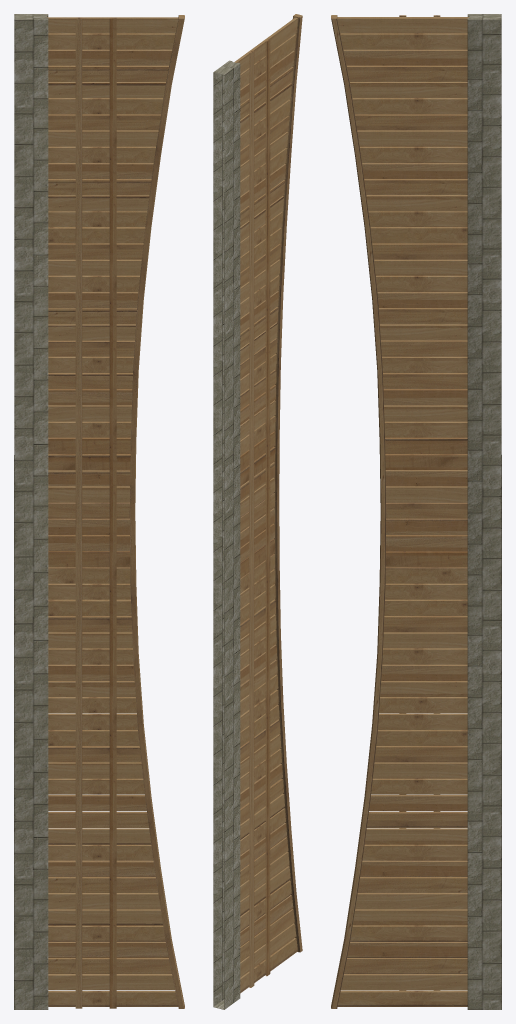
Rendered from nt_concrete_fence_320_LOD0.obj.
3 renders of one model, left to right at view 1: azimuth 90°, elevation 25°; view 2: azimuth 150°, elevation 25°; view 3: azimuth 270°, elevation 25°, orthographic. The views are drawn at different scales.
Visible parts, largest first — view 1: nt_wood_fence, nt_2020_concrete_pattern_02; view 2: nt_wood_fence, nt_2020_concrete_pattern_02; view 3: nt_wood_fence, nt_2020_concrete_pattern_02.
Boxes of the visible parts, x1,y1,x2,y2 form: nt_wood_fence: (46,15,184,1008); nt_2020_concrete_pattern_02: (14,14,48,1009); nt_wood_fence: (234,14,302,993); nt_2020_concrete_pattern_02: (213,60,240,1009); nt_wood_fence: (331,15,468,1008); nt_2020_concrete_pattern_02: (467,14,501,1009).
Size of the model in its own units: 10.16 by 813 by 127.
